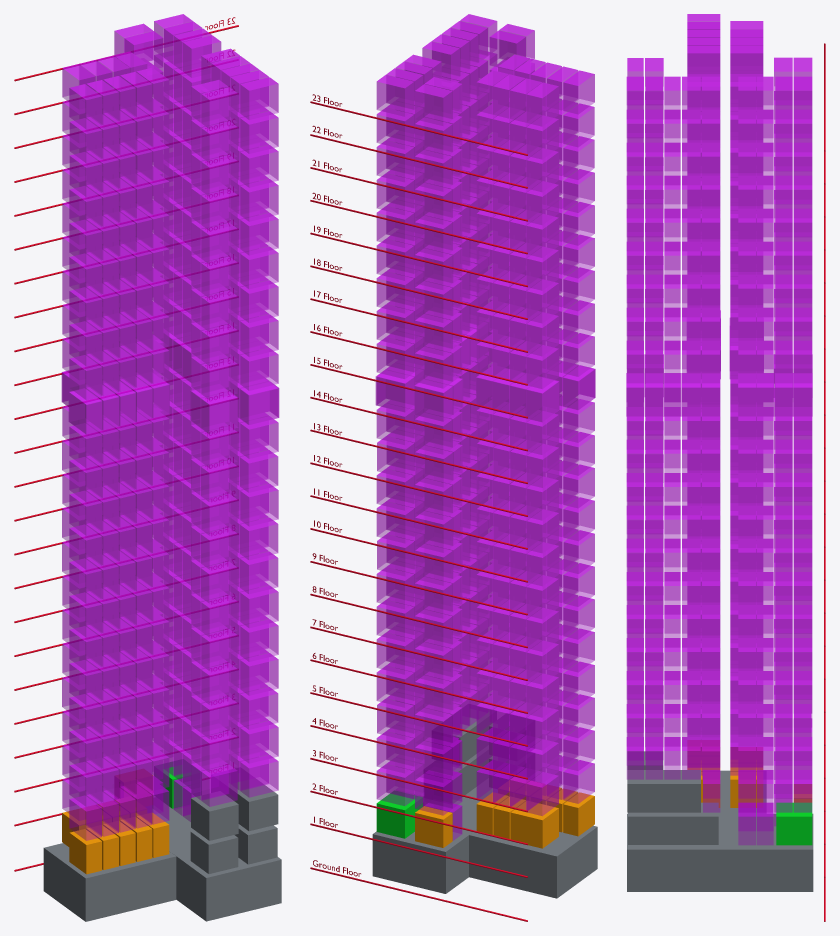
File: chai_wan_building.glb
3 renders of one model, left to right at view 1: azimuth 30°, elevation 25°; view 2: azimuth 150°, elevation 25°; view 3: azimuth 270°, elevation 25°, orthographic. The views are drawn at different scales.
Parts seen in each view (by area): view 1: Cube.039, Cylinder, Cube.038, Cube.002, Cube.007, Cube.413, Cube.415, Cube.134, Cube.444, Cube.692, Cube.072, Cube.103 (+205 smaller); view 2: Cylinder, Cube.039, Cube.003, Cube.425, Cube.406, Cube.685, Cube.704, Cube.065, Cube.282, Cube.561, Cube.158, Cube.437 (+222 smaller); view 3: Cube.039, Cube.005, Cube.038, Cylinder, Cube.003, Cube.701, Cube.696, Cube.019, Cube.406, Cube.409, Cube.410, Cube.422 (+236 smaller).
Boxes of the visible parts, left/top/right/bottom form: Cube.039: left=43, top=802, right=281, bottom=921; Cylinder: left=14, top=25, right=238, bottom=826; Cube.038: left=211, top=773, right=278, bottom=831; Cube.002: left=191, top=791, right=238, bottom=840; Cube.007: left=190, top=830, right=238, bottom=873; Cube.413: left=239, top=381, right=279, bottom=424; Cube.415: left=200, top=391, right=238, bottom=434; Cube.134: left=240, top=687, right=278, bottom=729; Cube.444: left=240, top=348, right=278, bottom=390; Cube.692: left=240, top=77, right=278, bottom=119; Cube.072: left=240, top=755, right=278, bottom=797; Cube.103: left=240, top=721, right=278, bottom=763; Cylinder: left=310, top=101, right=527, bottom=877; Cube.039: left=372, top=778, right=597, bottom=898; Cube.003: left=376, top=791, right=422, bottom=838; Cube.425: left=414, top=379, right=453, bottom=421; Cube.406: left=375, top=369, right=414, bottom=412; Cube.685: left=376, top=75, right=414, bottom=116; Cube.704: left=415, top=84, right=452, bottom=125; Cube.065: left=376, top=731, right=414, bottom=773; Cube.282: left=376, top=501, right=414, bottom=543; Cube.561: left=376, top=206, right=414, bottom=247; Cube.158: left=376, top=633, right=414, bottom=674; Cube.437: left=376, top=337, right=414, bottom=378; Cube.039: left=627, top=770, right=813, bottom=891; Cube.005: left=628, top=802, right=718, bottom=844; Cube.038: left=627, top=770, right=700, bottom=812; Cylinder: left=824, top=43, right=825, bottom=877; Cube.003: left=776, top=802, right=812, bottom=845; Cube.701: left=730, top=45, right=763, bottom=81; Cube.696: left=687, top=46, right=720, bottom=81; Cube.019: left=730, top=771, right=763, bottom=807; Cube.406: left=793, top=373, right=812, bottom=416; Cube.409: left=681, top=373, right=700, bottom=416; Cube.410: left=701, top=373, right=720, bottom=416; Cube.422: left=729, top=342, right=763, bottom=379.
Size of the model in its own units: 25.13 by 88.04 by 19.83.
